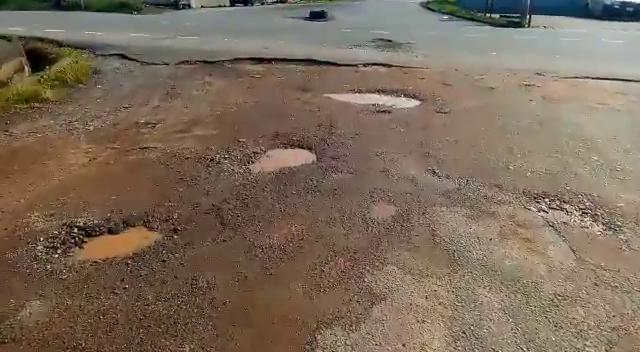pothole: (48, 216, 173, 263), (250, 141, 321, 174), (334, 88, 426, 109), (370, 195, 398, 222)
